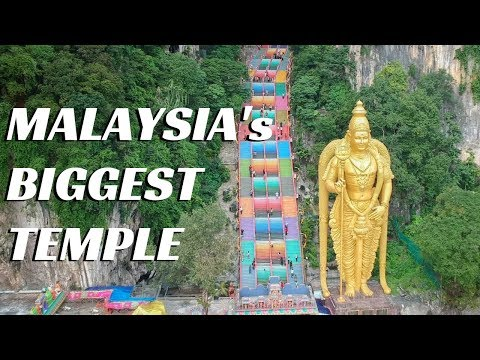Hindu Temple: (307, 104, 396, 290)
